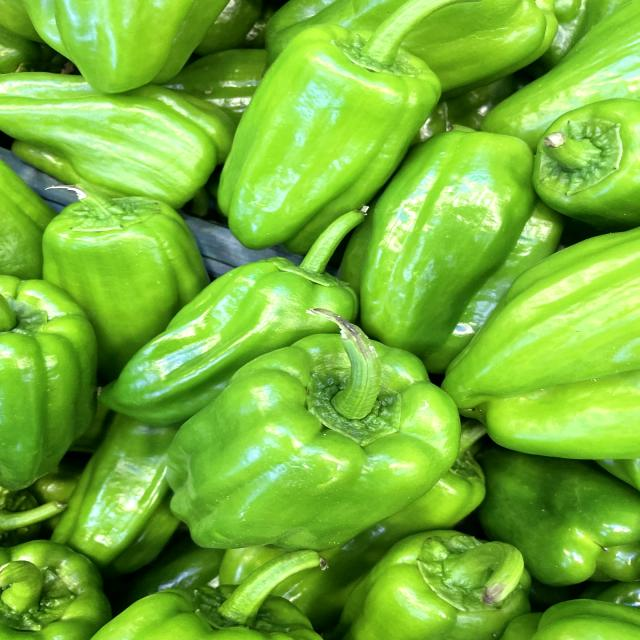bell pepper: (155, 298, 477, 555), (211, 0, 481, 254)
